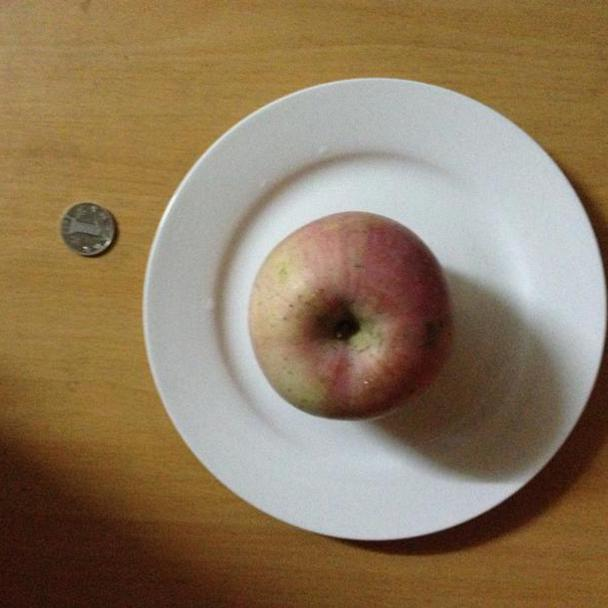apple: (249, 210, 455, 421)
